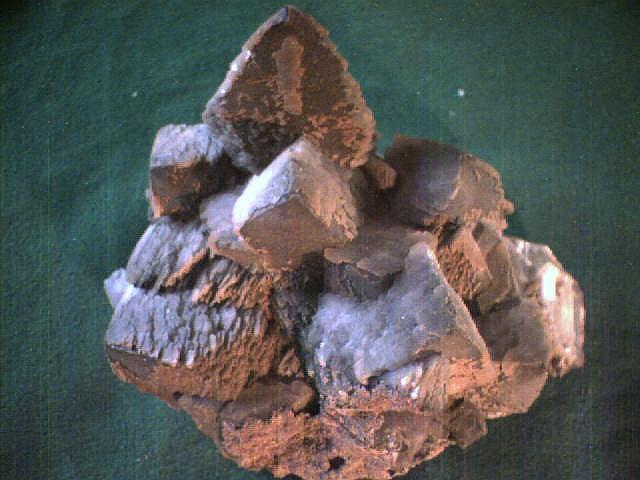calcite: (105, 8, 581, 478)
